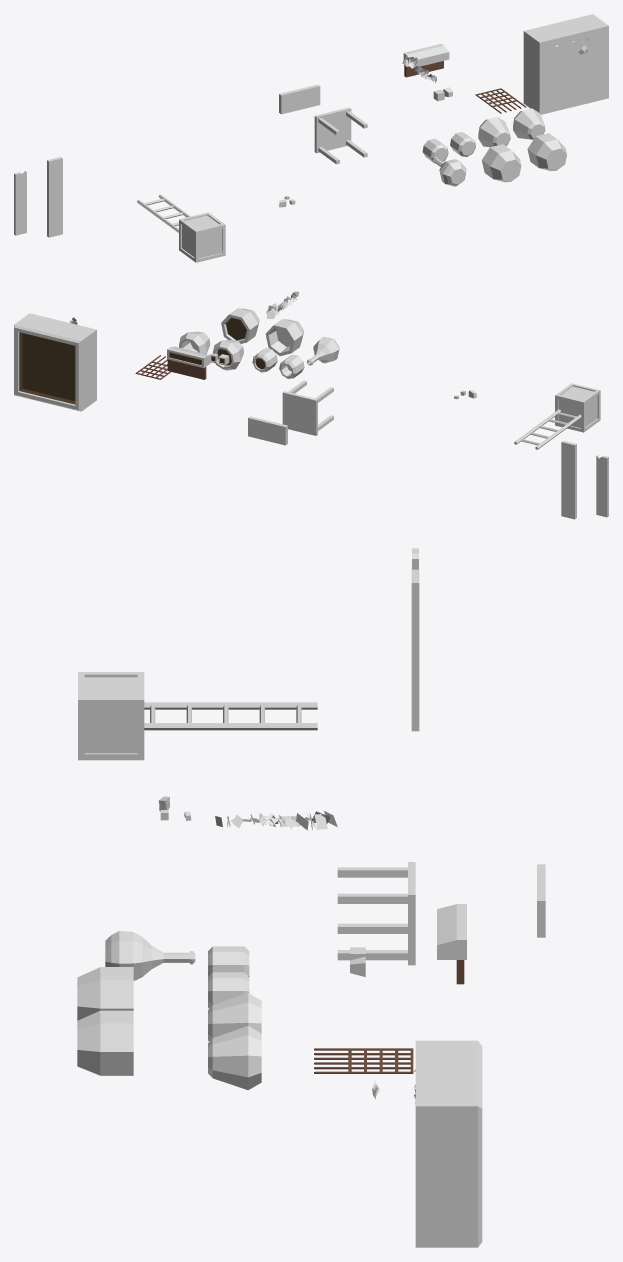
The model's file is Props.fbx.
3 views of the same model, one above another, from view 1: azimuth 30°, elevation 25°; view 2: azimuth 150°, elevation 25°; view 3: azimuth 270°, elevation 25° (orthographic). The views are drawn at different scales.
Parts seen in each view (by area): view 1: Large Planter, Crate, Table, Plank 1, Pot 1, Pot 1 Full, Window Box, Shelf 1, Plank 2, Pot 3, Pot 3 Full, Bottle 1 (+4 smaller); view 2: Large Planter, Crate, Table, Plank 1, Window Box, Pot 1, Pot 1 Full, Shelf 1, Plank 2, Ladder, Pot 3 Full, Bottle 1 (+5 smaller); view 3: Large Planter, Crate, Table, Pot 1 Full, Ladder, Pot 3, Pot 1, Bottle 1, Lattice 1, Window Box, Pot 3 Full, Plank 1 (+3 smaller).
Boxes of the visible parts, x1,y1,x2,y2 form: Large Planter: (523, 14, 608, 114); Crate: (179, 212, 225, 262); Table: (314, 107, 367, 164); Plank 1: (47, 157, 62, 237); Pot 1: (481, 144, 521, 182); Pot 1 Full: (527, 133, 566, 170); Window Box: (403, 43, 449, 77); Shelf 1: (279, 84, 320, 114); Plank 2: (14, 171, 26, 235); Pot 3: (513, 108, 545, 139); Pot 3 Full: (478, 117, 510, 147); Bottle 1: (432, 157, 466, 186); Large Planter: (14, 313, 96, 411); Crate: (555, 383, 600, 432); Table: (282, 380, 333, 435); Plank 1: (561, 441, 576, 519); Window Box: (167, 346, 211, 379); Pot 1: (265, 319, 304, 356); Pot 1 Full: (221, 308, 259, 343); Shelf 1: (248, 416, 287, 445); Plank 2: (596, 454, 608, 517); Ladder: (514, 409, 581, 449); Pot 3 Full: (212, 339, 243, 370); Bottle 1: (307, 336, 339, 365); Large Planter: (415, 1040, 482, 1247); Crate: (78, 672, 144, 760); Table: (337, 862, 415, 965); Pot 1 Full: (77, 1010, 133, 1075); Ladder: (144, 702, 317, 730); Pot 3: (208, 1026, 261, 1089); Pot 1: (77, 967, 133, 1020); Bottle 1: (105, 931, 195, 980); Lattice 1: (314, 1048, 413, 1073); Window Box: (437, 904, 466, 984); Pot 3 Full: (208, 993, 261, 1041); Plank 1: (411, 569, 419, 731).
Size of what is drawn, in the model's own units: 1716 by 322 by 602.
